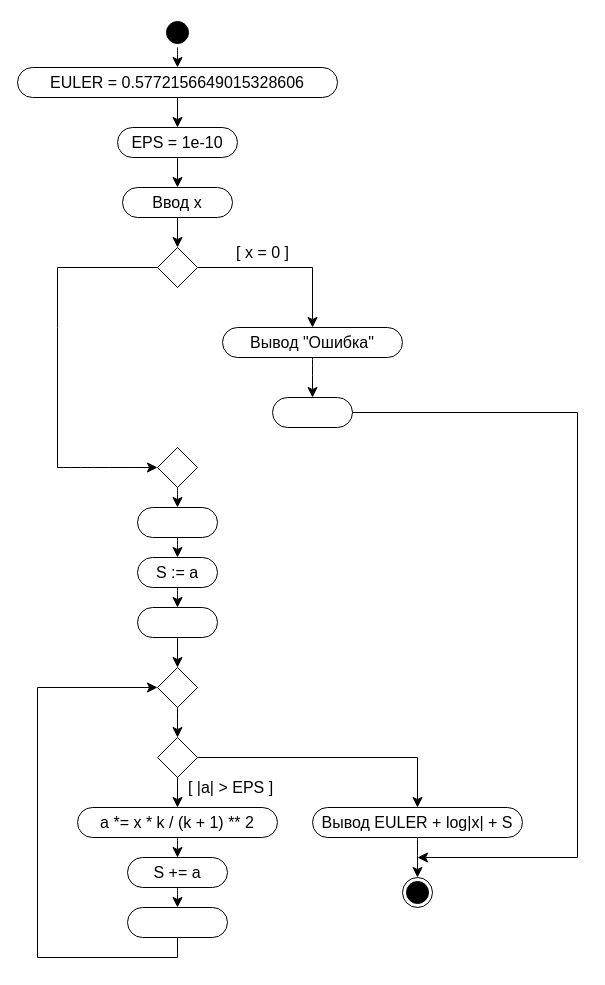
The diagram is 605 pixels wide and 985 high, and some of its shapes have lost their labels. Each missing label, with the box of its shape:
a := x: (136, 506, 218, 538)
exit(1): (272, 396, 352, 428)
k += 1: (126, 906, 228, 938)
k := 1: (136, 606, 218, 638)
